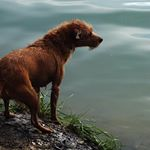puppy: (1, 16, 107, 139)
